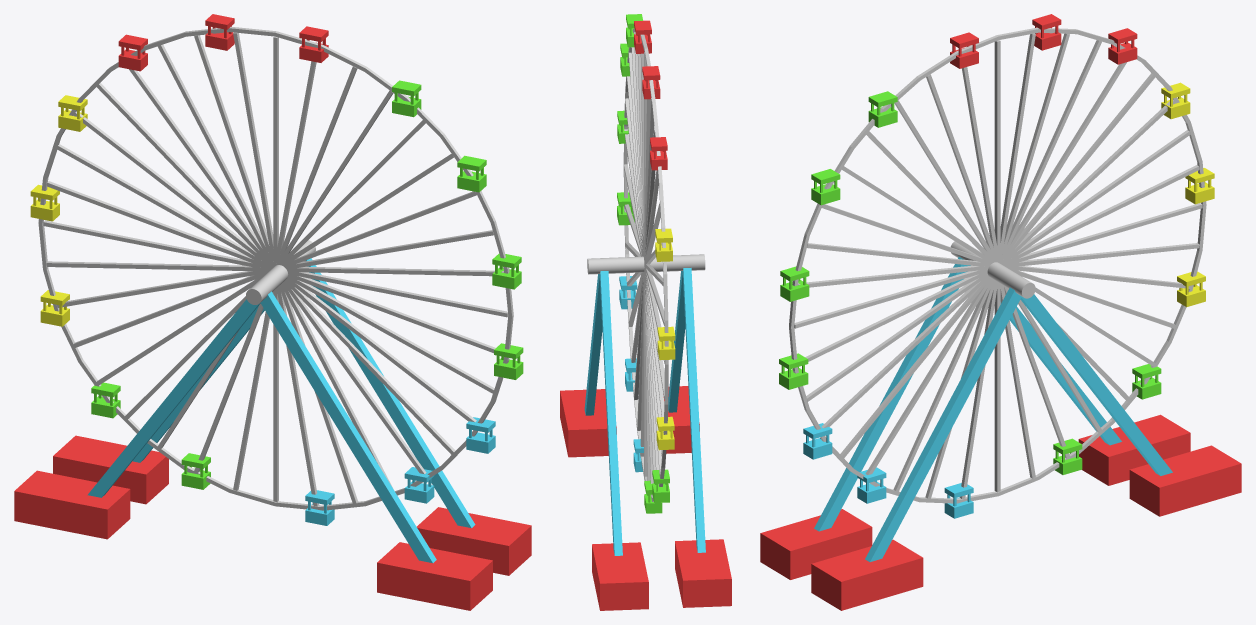
File: dxSNUJtW4QG.glb
3 renders of one model, left to right at view 1: azimuth 30°, elevation 25°; view 2: azimuth 150°, elevation 25°; view 3: azimuth 270°, elevation 25°, orthographic. The views are drawn at different scales.
Visible parts, largest first — view 1: Box060, Box073, Box064, Box086, Box092; view 2: Box060, Box073, Box064, Box086, Box092; view 3: Box060, Box073, Box064, Box086, Box092.
Boxes of the visible parts, bbox=[...] form: Box060: bbox=[38, 26, 513, 510]; Box073: bbox=[14, 14, 531, 610]; Box064: bbox=[87, 258, 495, 563]; Box086: bbox=[91, 80, 523, 489]; Box092: bbox=[30, 95, 87, 326]; Box060: bbox=[587, 28, 705, 501]; Box073: bbox=[560, 20, 731, 610]; Box064: bbox=[584, 268, 705, 555]; Box086: bbox=[617, 14, 669, 513]; Box092: bbox=[655, 228, 675, 450]; Box060: bbox=[789, 27, 1206, 503]; Box073: bbox=[760, 14, 1241, 610]; Box064: bbox=[803, 257, 1172, 561]; Box086: bbox=[779, 91, 1161, 474]; Box092: bbox=[1161, 82, 1214, 307].
Size of the model in its own units: 0.7177 by 1 by 0.8726.
